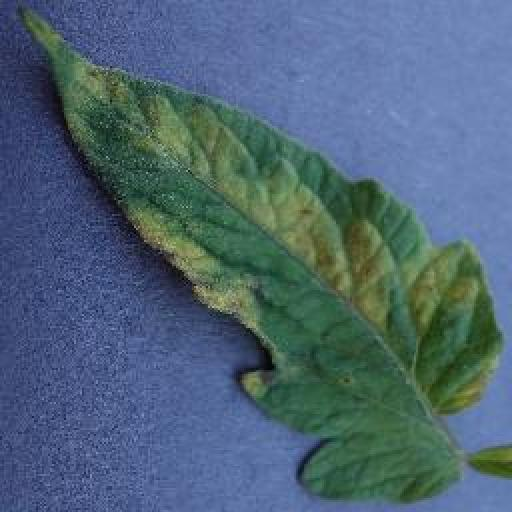disease_tomato: (18, 5, 503, 507)
